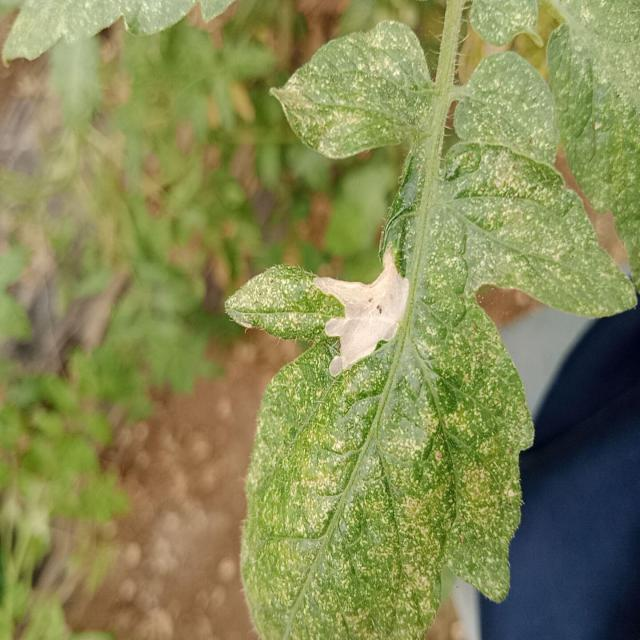Tuta absoluta: (295, 244, 436, 380)
